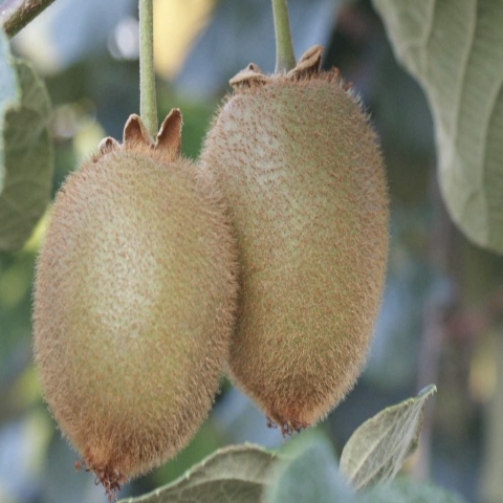kiwi: (184, 58, 409, 430), (34, 101, 240, 493)
